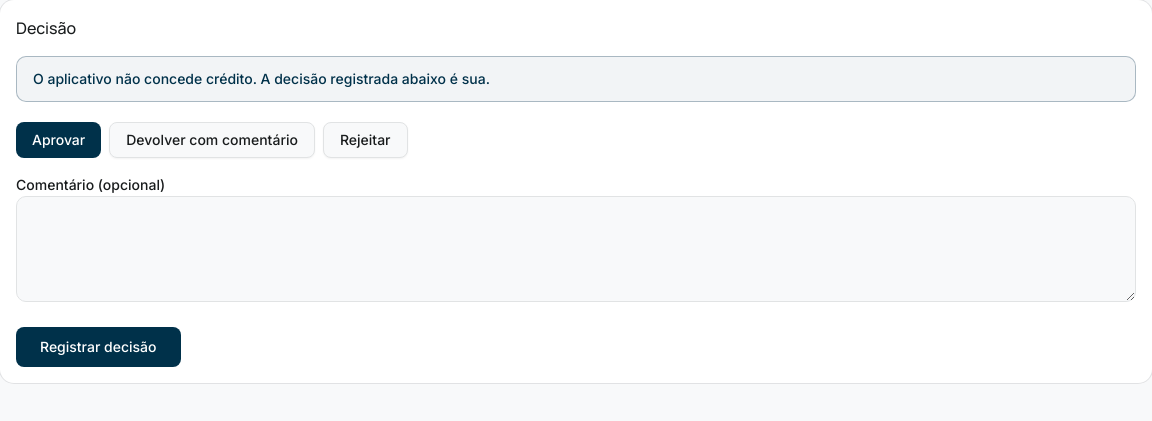
Scenario: tela de decisão (§6.4) › não avança sem comentário em rejeitar
The width and height of the screenshot is (1152, 421).
Click the button "Rejeitar" at (365, 140), box [323,122,408,158]
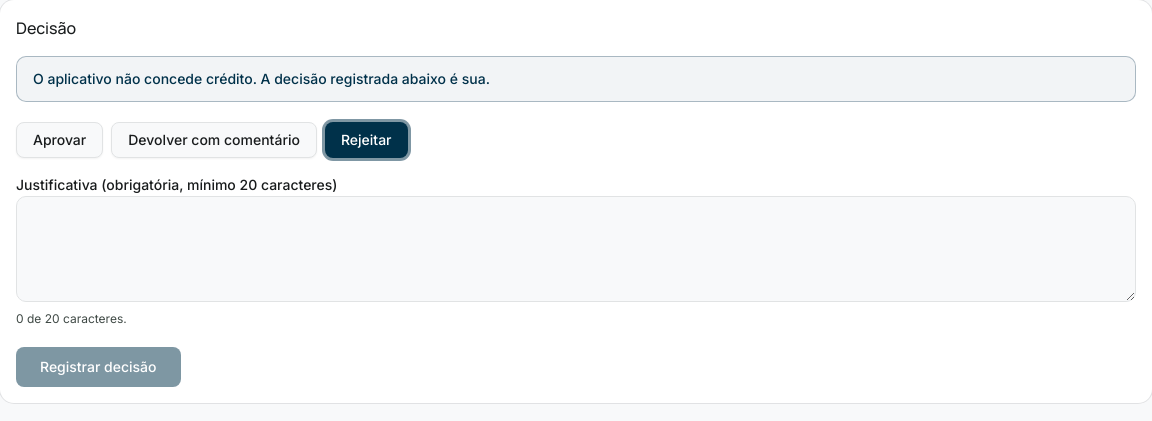
Result: the button "Registrar decisão" is disabled at [16,347,180,387]
